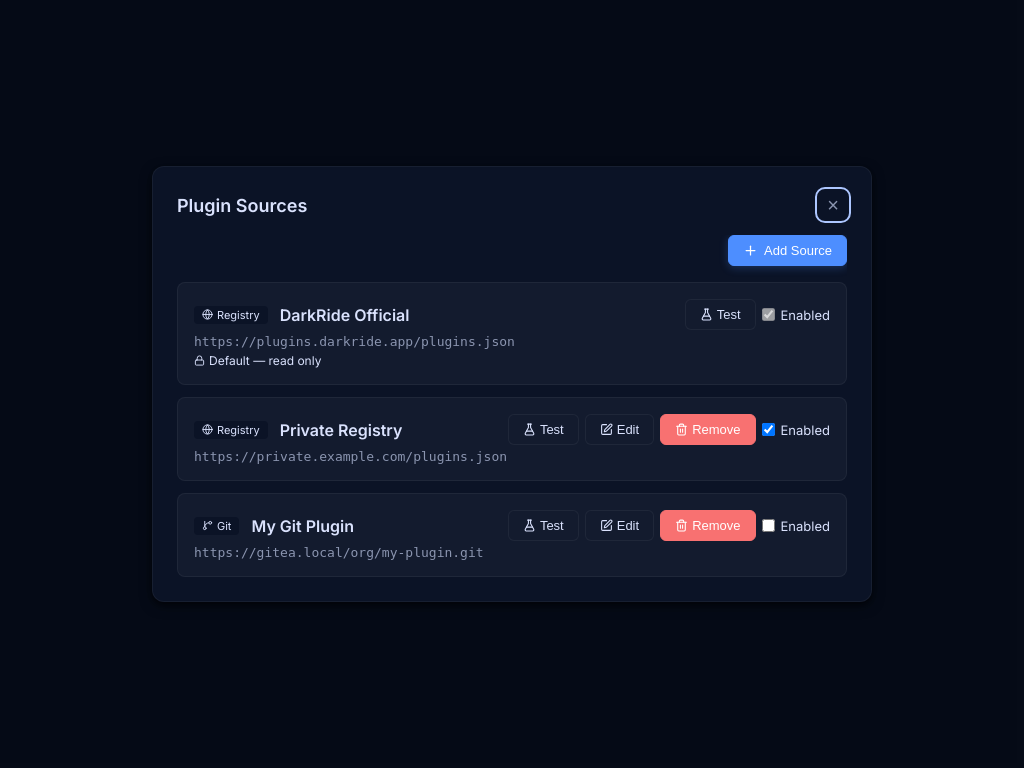
Test: SourceManagerModal › type selector changes URL placeholder
Expected: the text "DarkRide Official" is shown, [280,304,410,324]
Click the button "Add Source" at (788, 250), box [728,235,847,266]
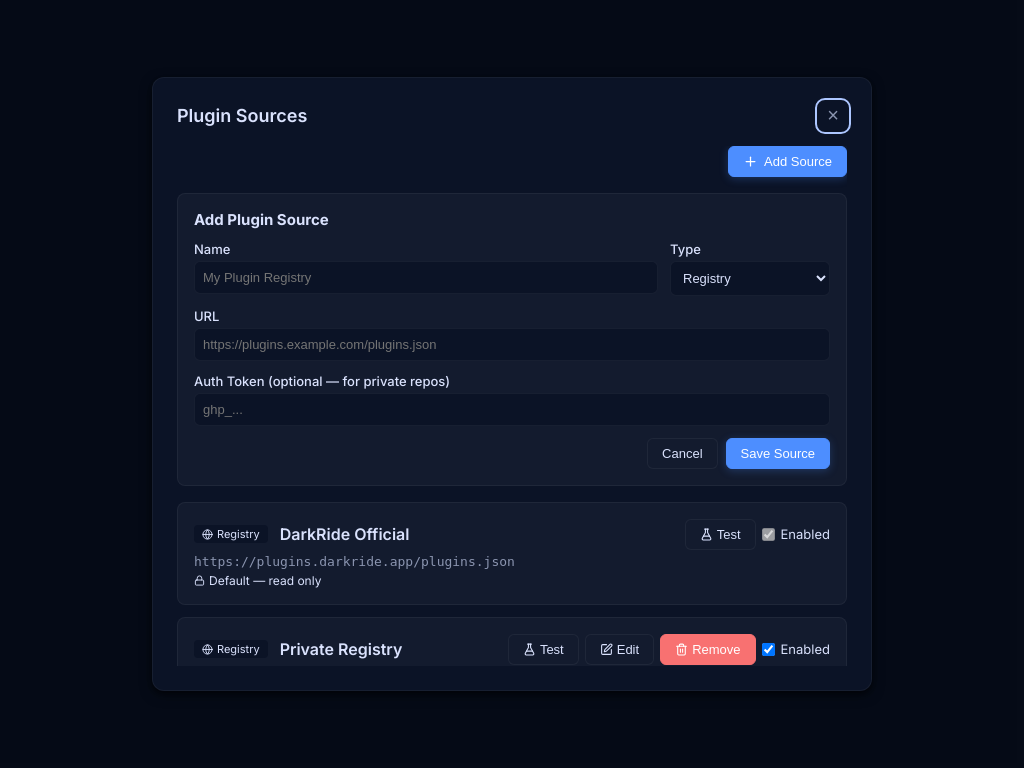
Now the field with placeholder "https://plugins.example.com/plugins.json" is shown, box [194,328,830,361]
// Switch to git
Select "Git Repository" in the dropdown showing "Registry" at (750, 278), box [670,261,830,296]
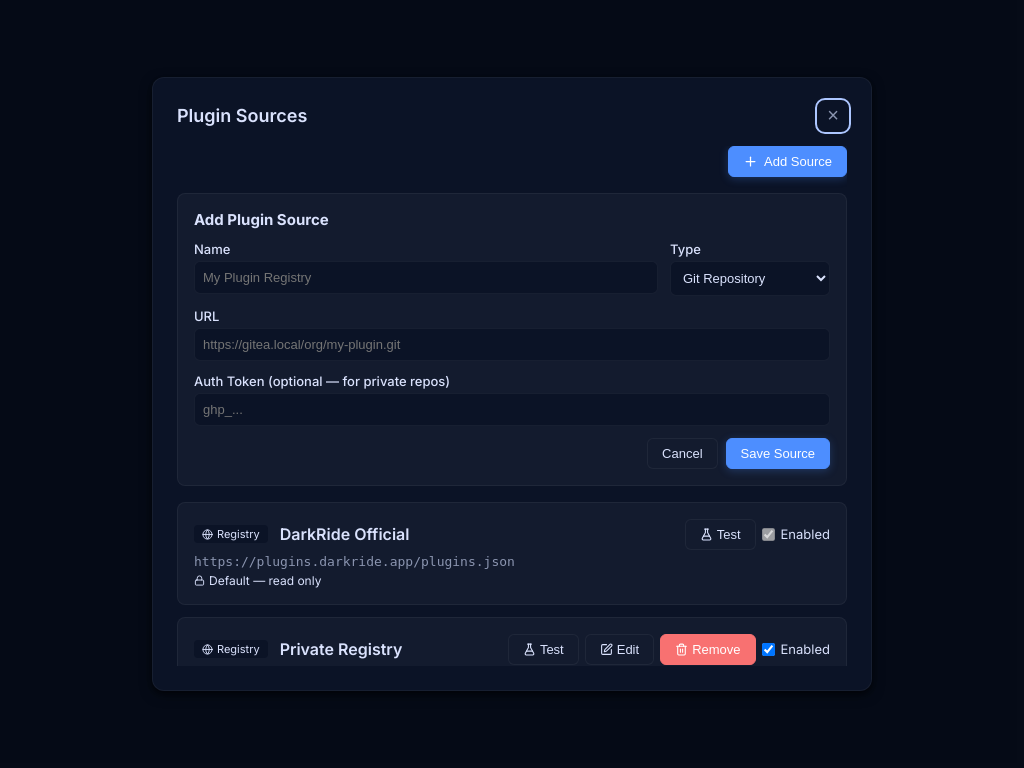
Now the field with placeholder "https://gitea.local/org/my-plugin.git" is shown, box [194,328,830,361]
